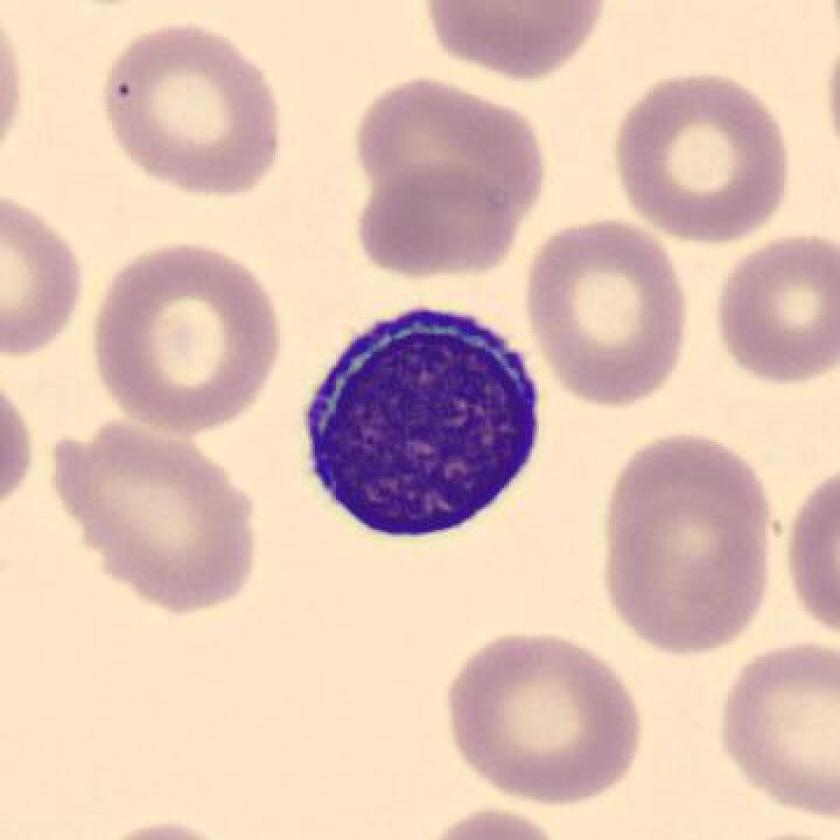lymphocyte: (290, 295, 561, 556)
